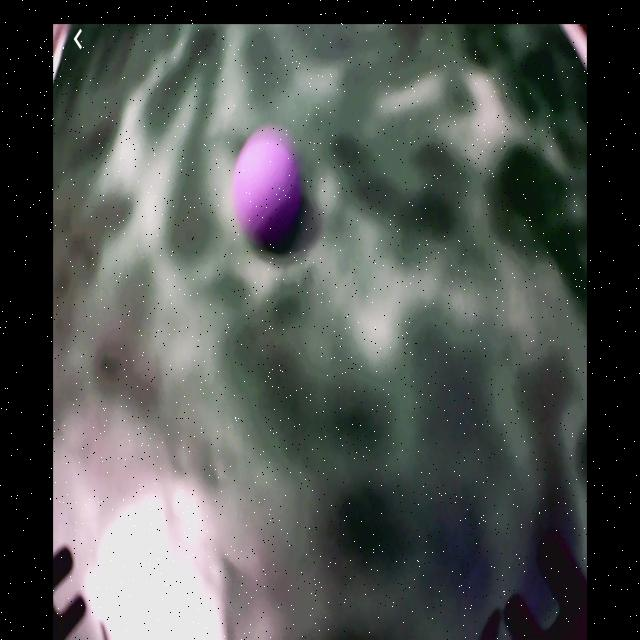ball: (234, 130, 302, 241)
